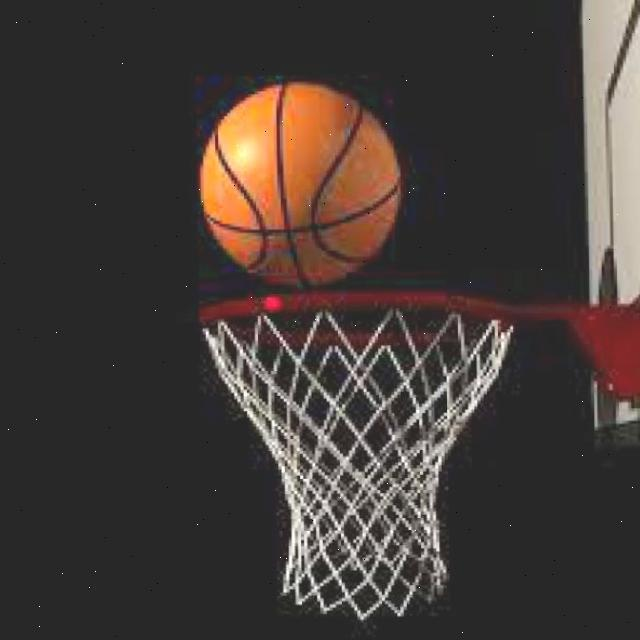Basketball: (198, 81, 402, 282)
